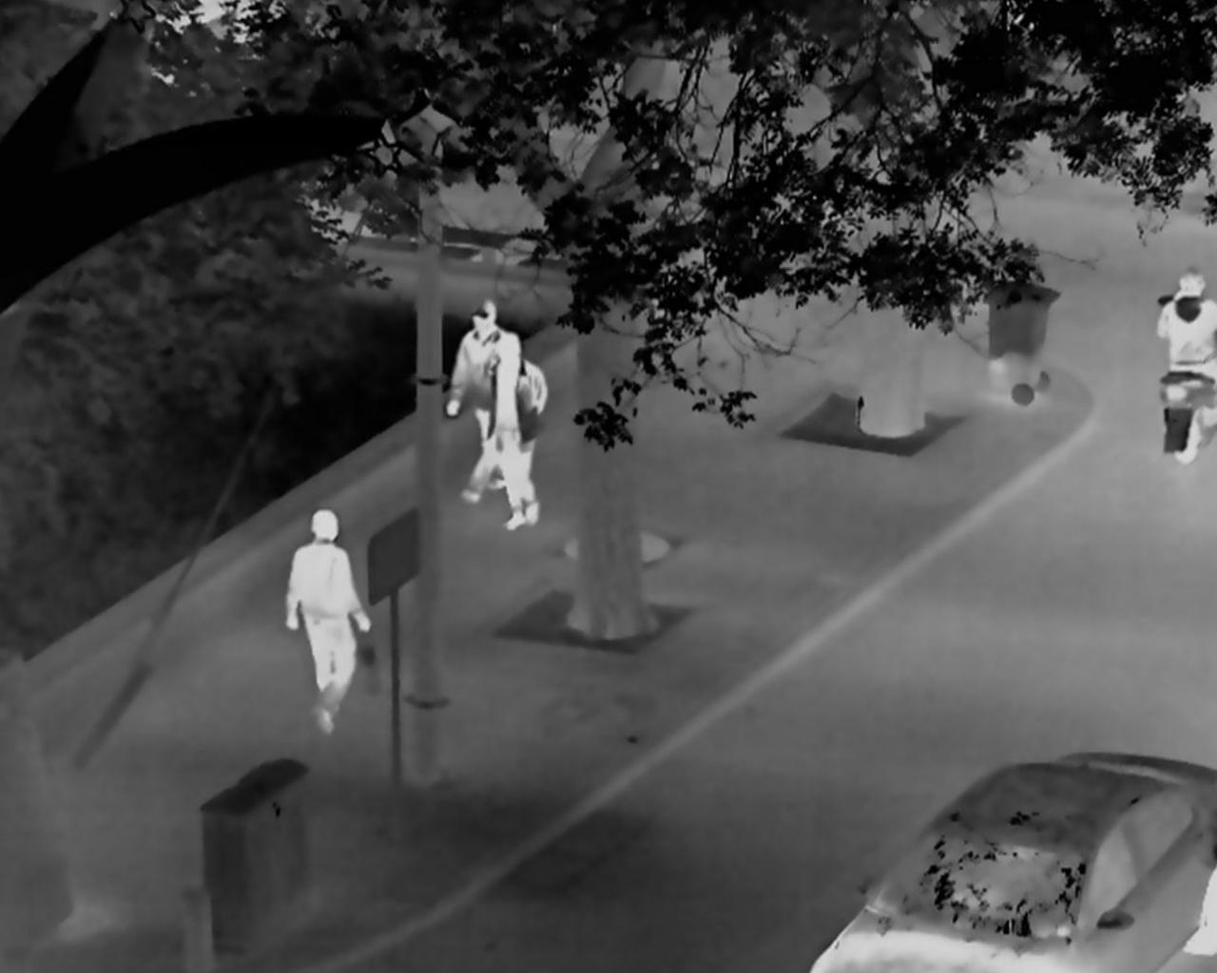person: (283, 508, 372, 733), (482, 332, 550, 531), (445, 297, 506, 501), (1156, 267, 1217, 383)
